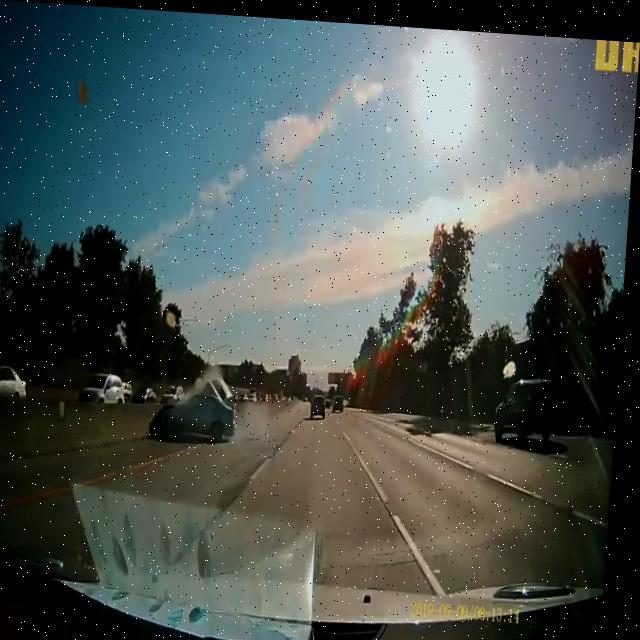normal: (290, 394, 349, 436)
single accident: (151, 381, 273, 441)
